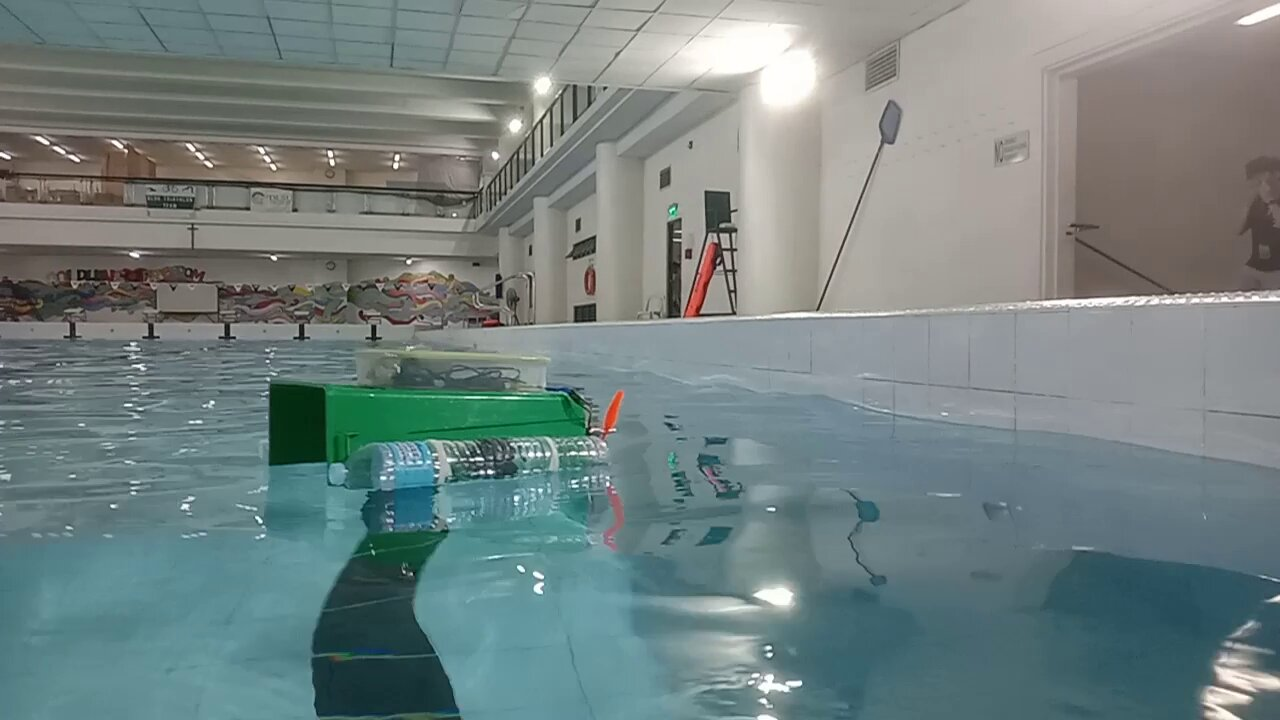drone: (270, 349, 624, 488)
